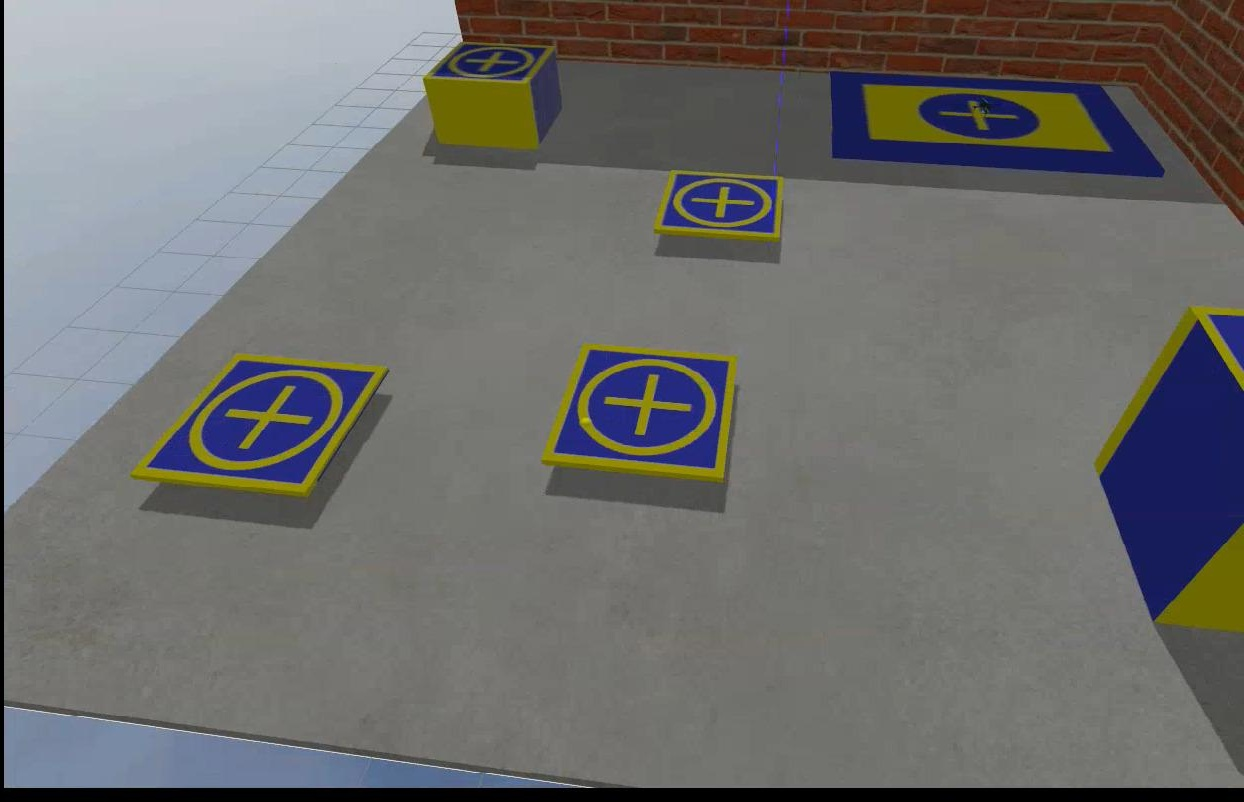large_base: (820, 70, 1163, 177)
small_base: (131, 351, 385, 496), (539, 344, 732, 492), (649, 168, 781, 240), (423, 38, 555, 86), (1186, 302, 1242, 394)
